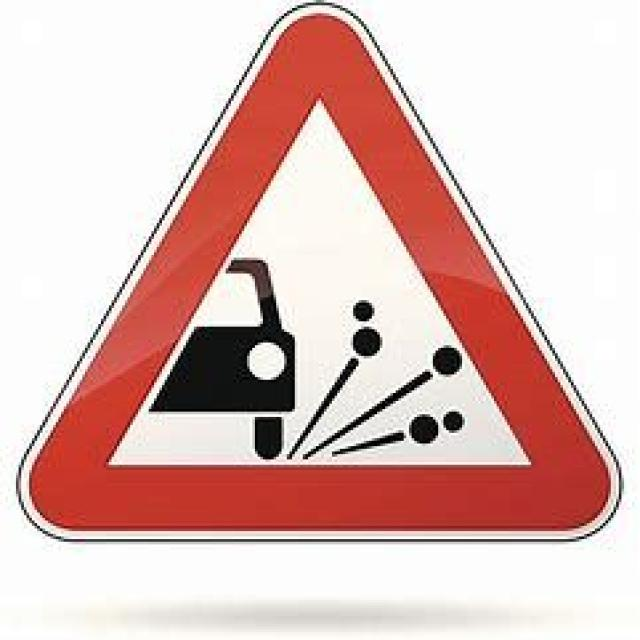LOOSE_GRAVEL: (15, 5, 622, 542)
